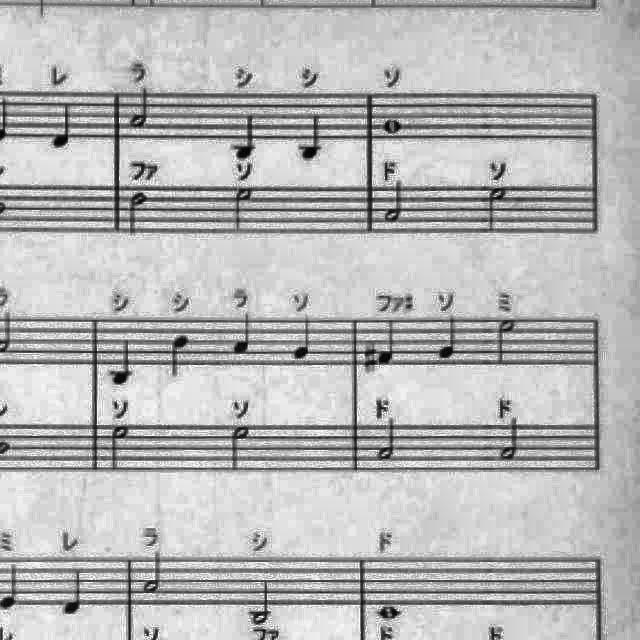Diez: (360, 339, 378, 377)
Full-note: (374, 600, 406, 624), (378, 116, 406, 138)
Half-note: (246, 576, 278, 628), (108, 418, 136, 474), (492, 315, 520, 369), (224, 422, 252, 474), (125, 188, 153, 240), (381, 177, 409, 227), (496, 414, 524, 464), (483, 184, 509, 236), (229, 186, 255, 238), (374, 416, 402, 464), (140, 548, 167, 596), (127, 84, 153, 132)
Quarter-note: (104, 333, 136, 389), (296, 110, 328, 164), (59, 564, 89, 620), (232, 110, 262, 162), (166, 331, 194, 382), (49, 100, 76, 152), (230, 310, 258, 360), (436, 313, 462, 363), (290, 314, 316, 364), (376, 316, 400, 369)
